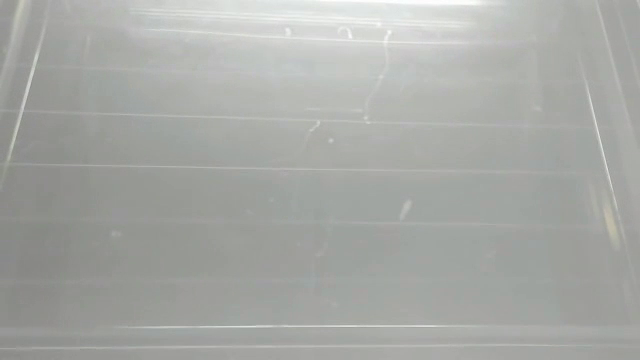alpha: (394, 196, 416, 226)
